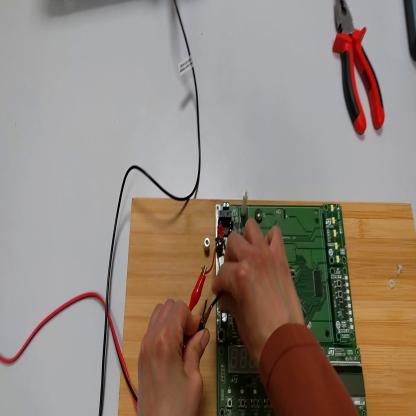hand: (214, 219, 303, 372), (138, 299, 213, 416)
low voltage board: (213, 189, 369, 415)
pliers: (335, 2, 387, 140)
welder station: (404, 1, 416, 63)
working area: (112, 194, 416, 415)
